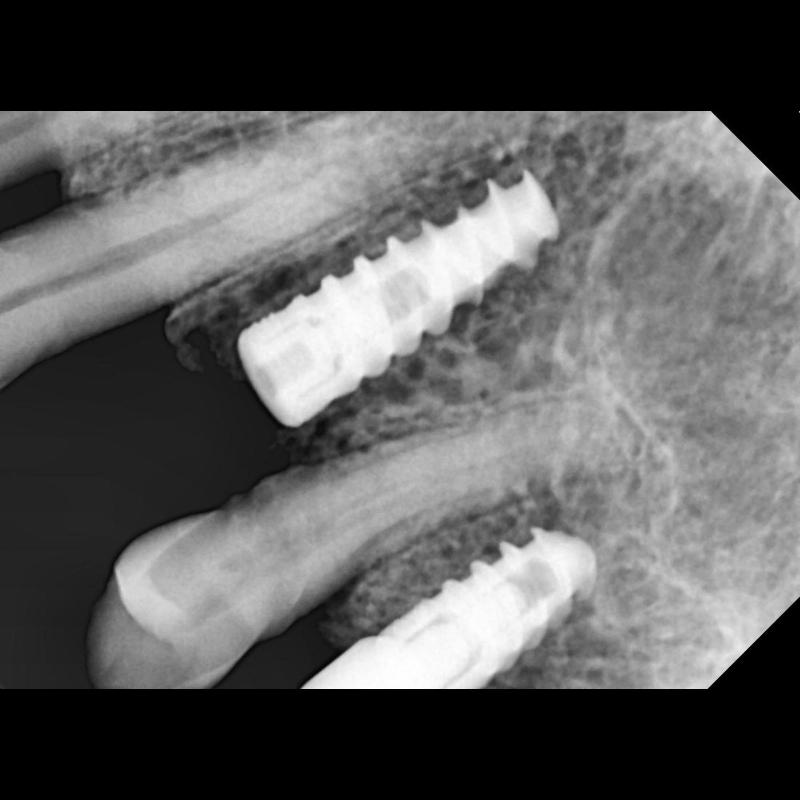NORIS: (233, 164, 564, 435)
